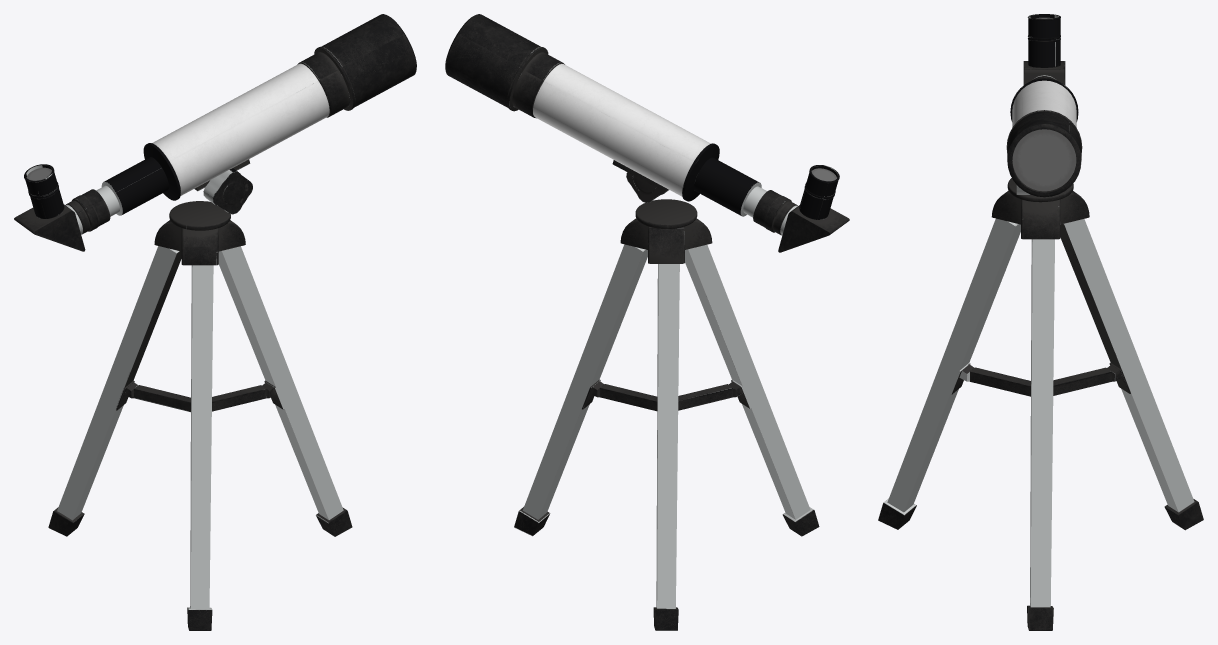
File: telescope.fbx
The picture shows the model from 3 angles, left to right: view 1: azimuth 30°, elevation 25°; view 2: azimuth 150°, elevation 25°; view 3: azimuth 270°, elevation 25°; orthographic projection. The views are drawn at different scales.
Parts seen in each view (by area): view 1: Cylinder; view 2: Cylinder; view 3: Cylinder.
Boxes of the visible parts, left/top/right/bottom form: Cylinder: left=14, top=14, right=416, bottom=630; Cylinder: left=445, top=14, right=849, bottom=630; Cylinder: left=878, top=14, right=1203, bottom=630.
Bounding box in the file's own units: 345 × 431 × 237.
1 material, 1 textured.
